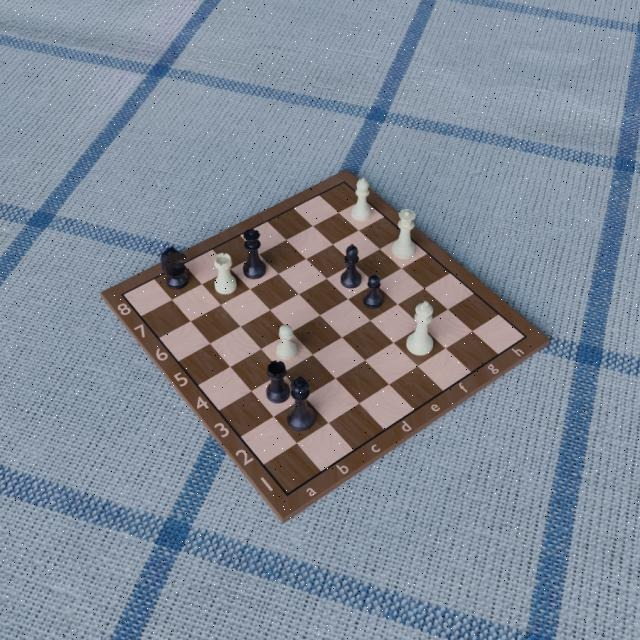black-bishop: (340, 242, 364, 290)
black-king: (286, 375, 316, 433)
black-knight: (159, 245, 191, 290)
black-pawn: (364, 273, 384, 310)
black-queen: (241, 227, 266, 280)
black-rook: (265, 358, 291, 403), (214, 250, 238, 297)
white-bishop: (350, 175, 373, 224)
white-king: (404, 301, 434, 359)
white-pawn: (275, 322, 300, 362)
white-queen: (390, 206, 417, 261)
